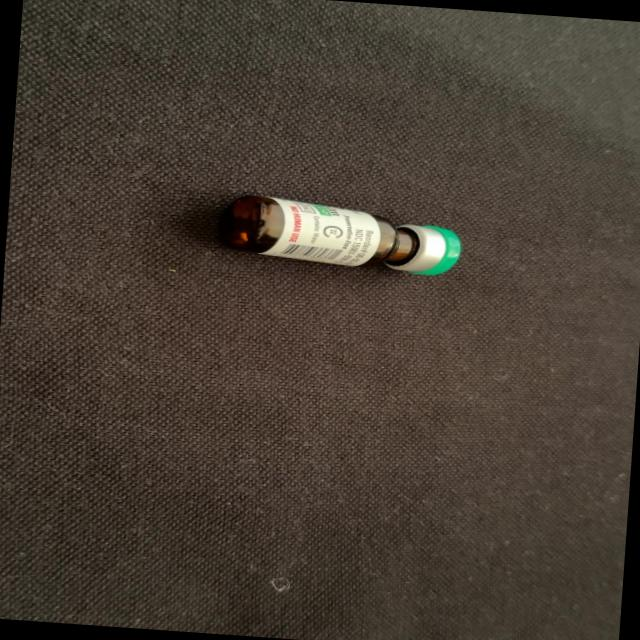midazolm: (223, 194, 458, 276)
